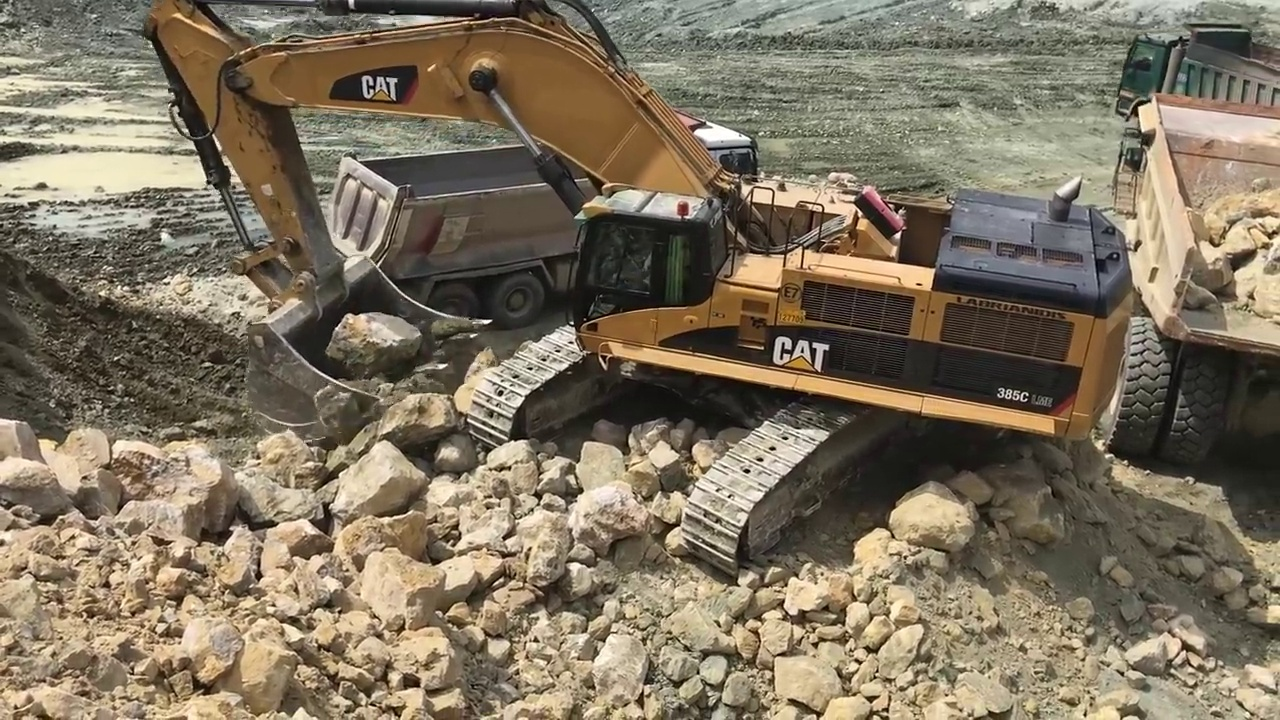dumper: (1125, 84, 1279, 486)
excavator: (139, 3, 1136, 577)
truck: (327, 120, 764, 323), (1119, 18, 1280, 133)
